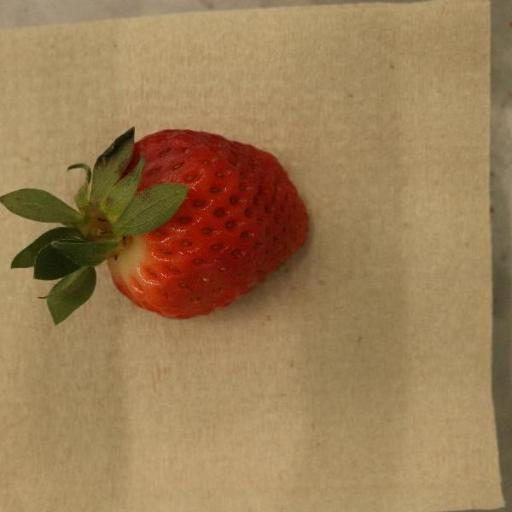Strawberry: (0, 127, 311, 326)
